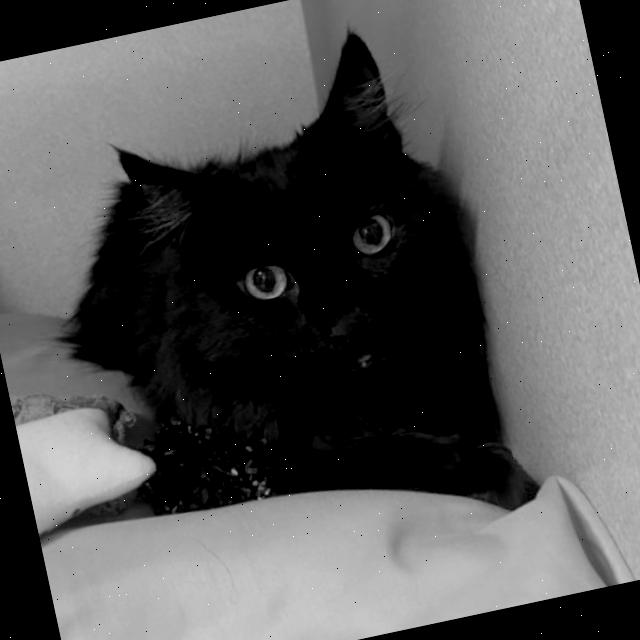maine_coon_cat: (75, 0, 539, 462)
